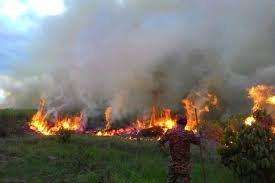fire: (23, 106, 86, 140), (100, 121, 160, 141), (249, 90, 275, 126), (151, 113, 174, 129)
smoke: (29, 25, 177, 107), (136, 25, 243, 94)
